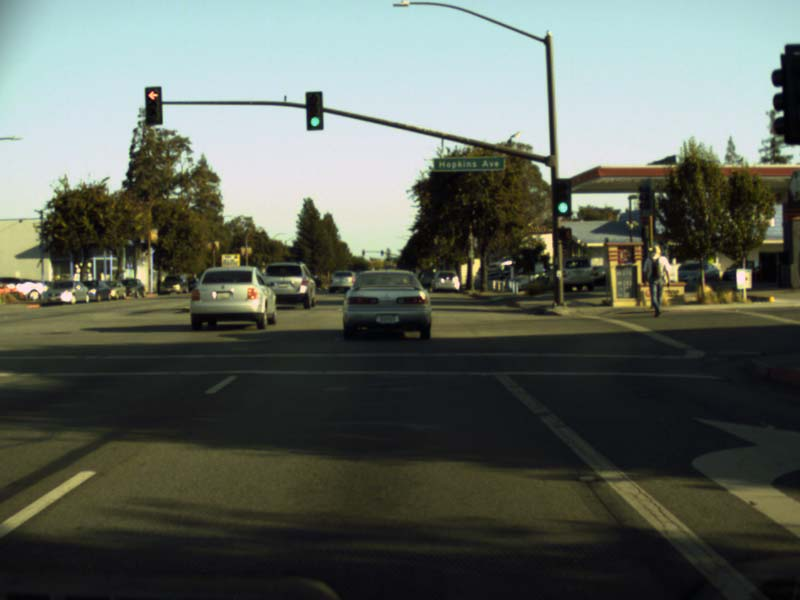Green: (552, 179, 570, 215), (306, 92, 322, 130)
Red: (145, 86, 161, 124)
